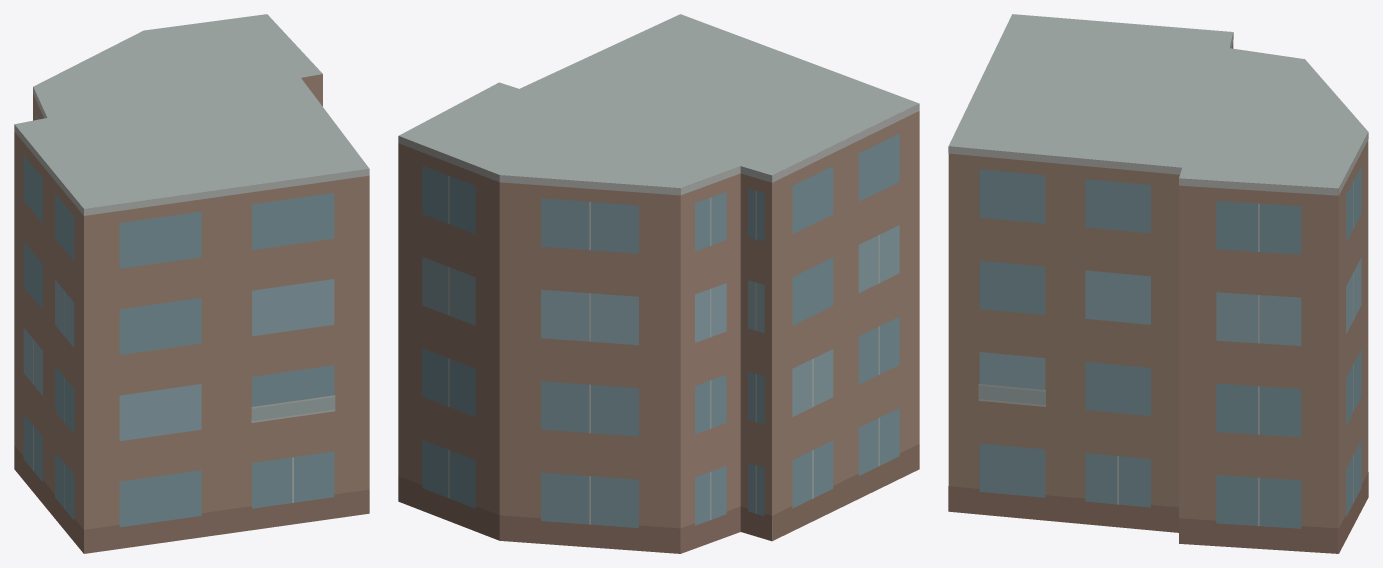
File: survey-upis-32658423.glb
3 renders of one model, left to right at view 1: azimuth 30°, elevation 25°; view 2: azimuth 150°, elevation 25°; view 3: azimuth 270°, elevation 25°, orthographic. The views are drawn at different scales.
Visible parts, largest first — view 1: survey-upis-32658423.tmp; view 2: survey-upis-32658423.tmp; view 3: survey-upis-32658423.tmp.
Boxes of the visible parts, box(x1,y1,x2,y2) form: survey-upis-32658423.tmp: box(14, 14, 369, 553); survey-upis-32658423.tmp: box(398, 14, 919, 553); survey-upis-32658423.tmp: box(948, 14, 1368, 553).
Bounding box in the file's own units: 12.5 × 12.2 × 12.72.
